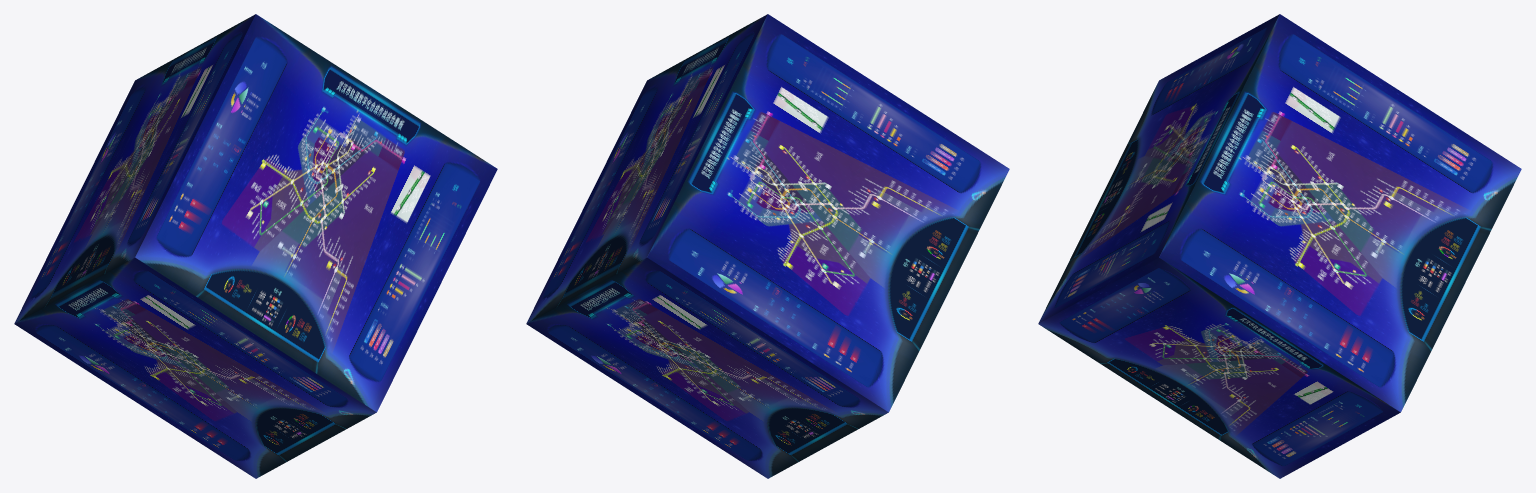
File: loadingBox.07db854.glb
3 renders of one model, left to right at view 1: azimuth 30°, elevation 25°; view 2: azimuth 150°, elevation 25°; view 3: azimuth 270°, elevation 25°, orthographic.
Parts seen in each view (by area): view 1: Box001; view 2: Box001; view 3: Box001.
Boxes of the visible parts, x1,y1,x2,y2 form: Box001: (14,14,497,478); Box001: (526,14,1009,478); Box001: (1038,14,1521,478).
Size of the model in its own units: 3.54 by 4.33 by 4.08.
1 material, 1 textured.
